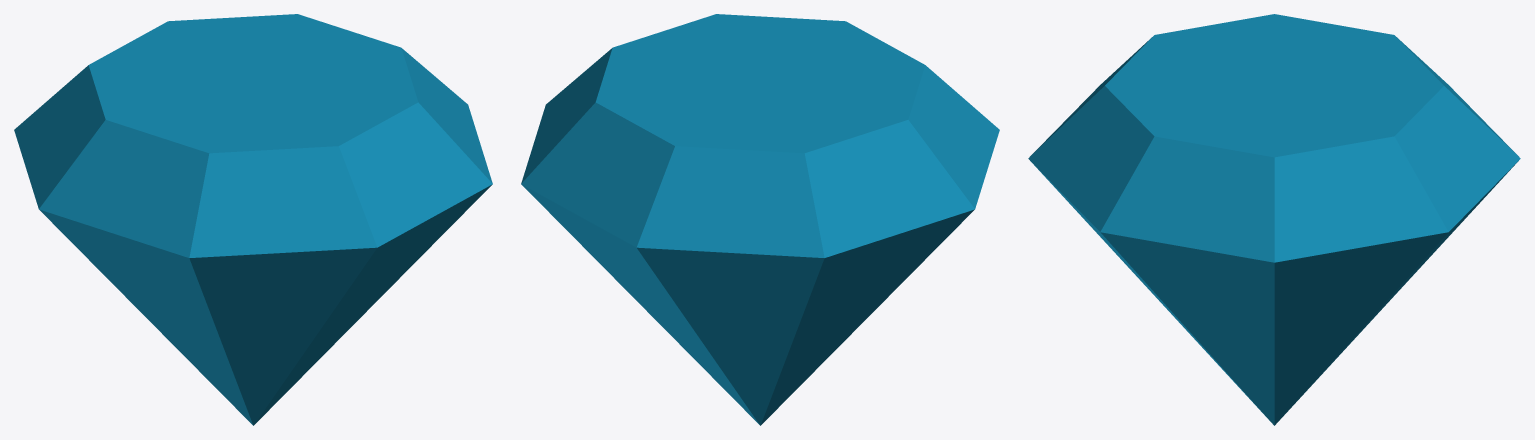
File: Diamond.fbx
3 renders of one model, left to right at view 1: azimuth 30°, elevation 25°; view 2: azimuth 150°, elevation 25°; view 3: azimuth 270°, elevation 25°, orthographic.
Parts seen in each view (by area): view 1: Diamond; view 2: Diamond; view 3: Diamond.
Part boxes in pixels (x1,y1,x2,y2): Diamond: (14, 14, 492, 425); Diamond: (521, 14, 999, 425); Diamond: (1028, 14, 1520, 425).
Size of the model in its own units: 45.67 by 34.8 by 45.67.
